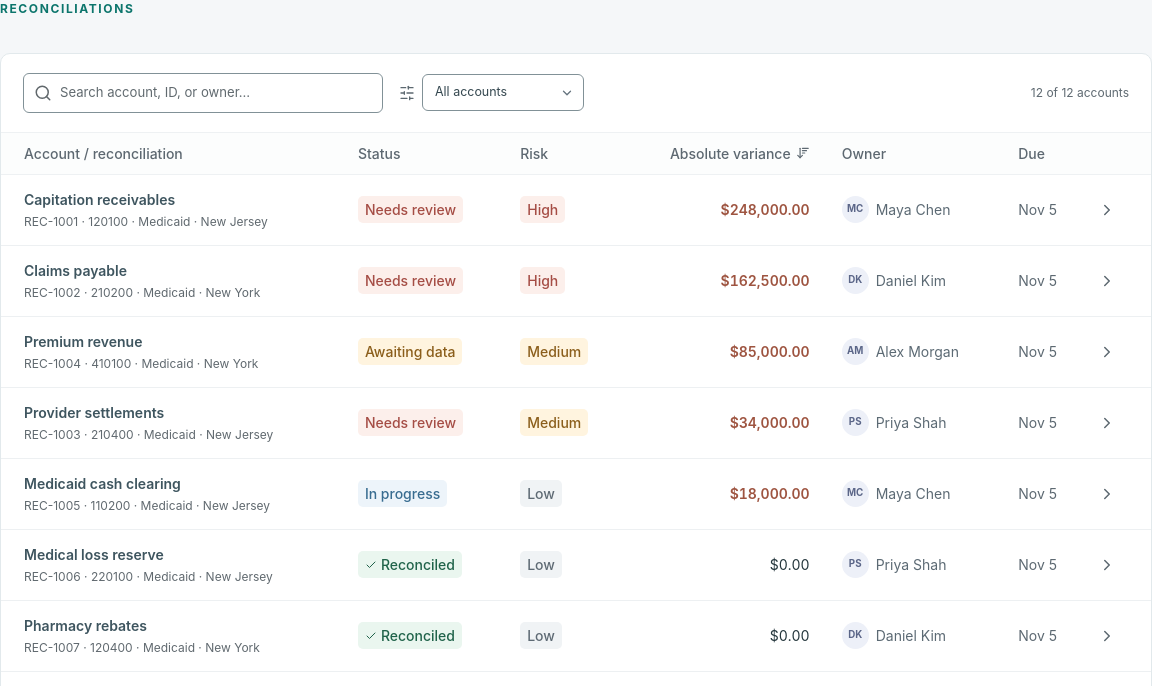
Test: offers a clear action when the search has no matches
Type "not-found" into the field named "Search reconciliations" at (216, 93), box x1=60 y1=81 x2=372 y2=105
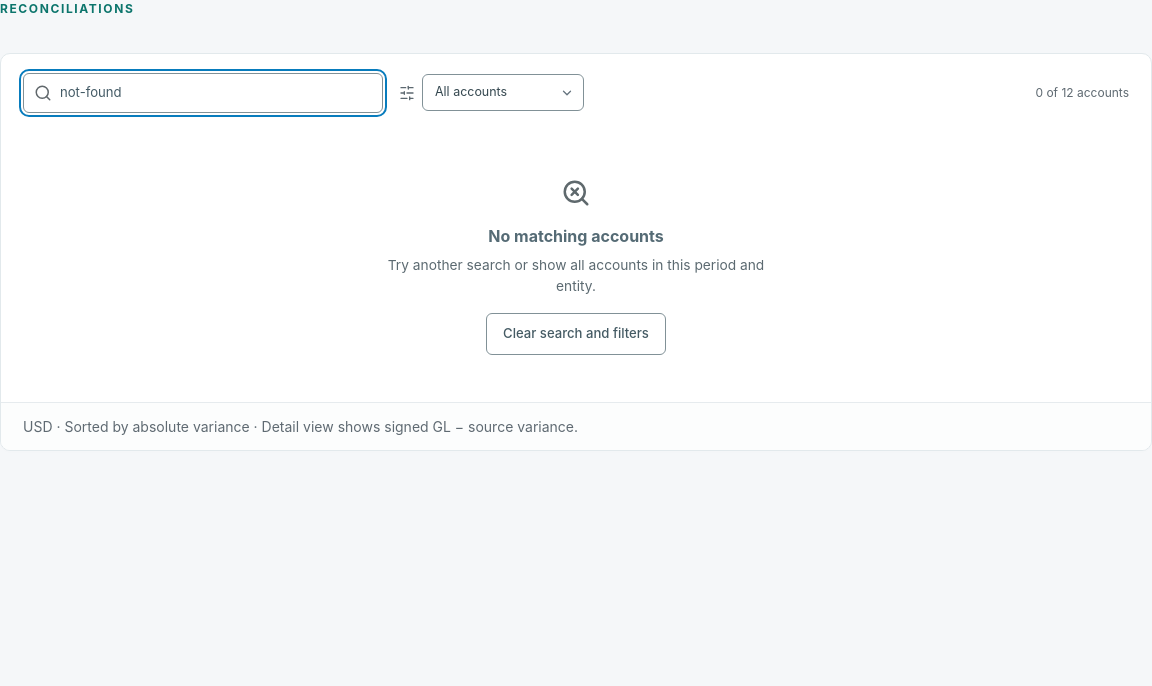
Check: the heading "No matching accounts" is shown, box x1=488 y1=224 x2=664 y2=248
Click the button "Clear search and filters" at (576, 334), box x1=486 y1=314 x2=666 y2=355
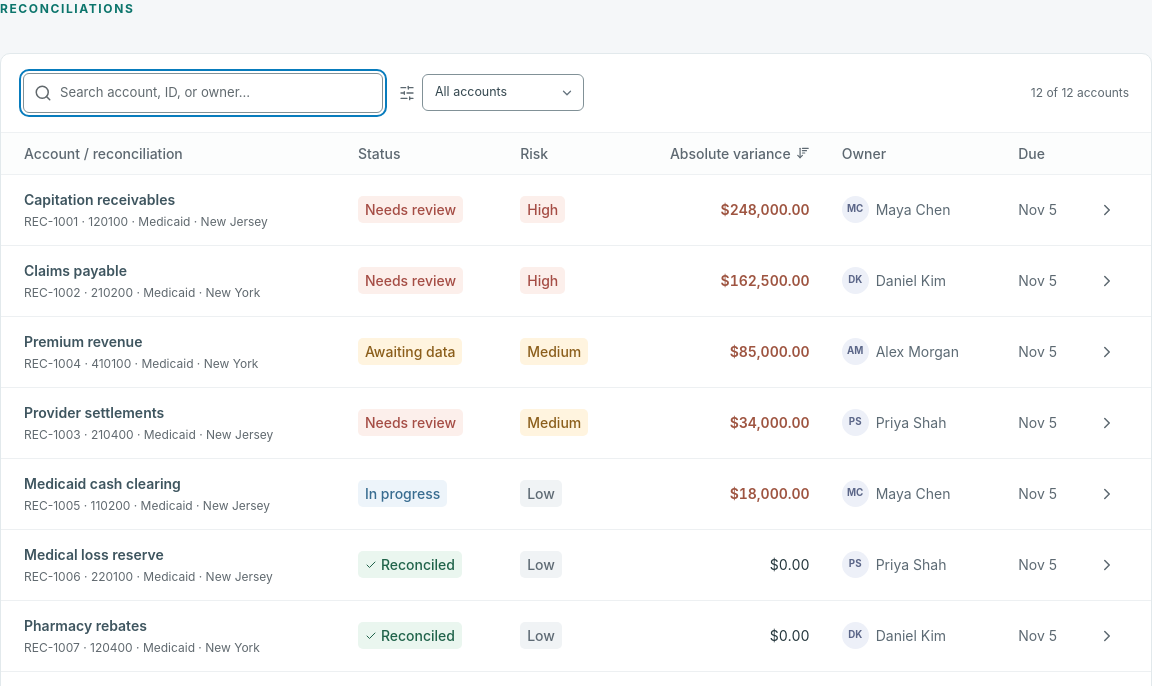
Check: the field named "Search reconciliations" is empty, box x1=60 y1=81 x2=372 y2=105
